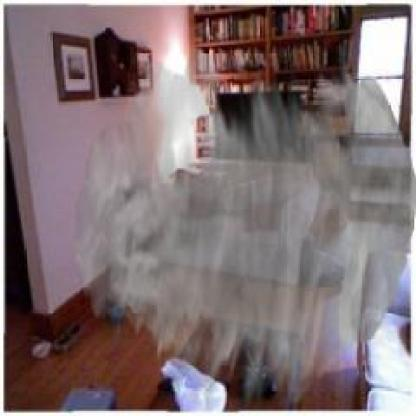Smoke: (75, 47, 414, 412)
